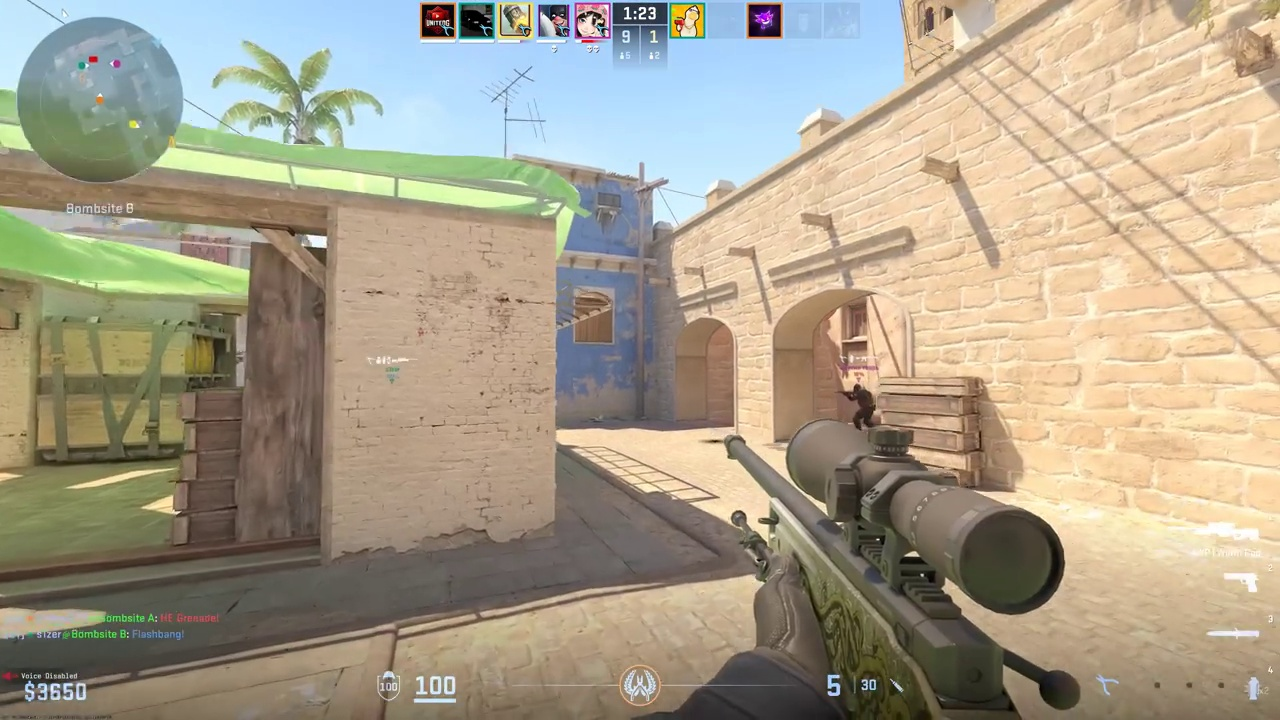CT: (848, 383, 875, 430)
